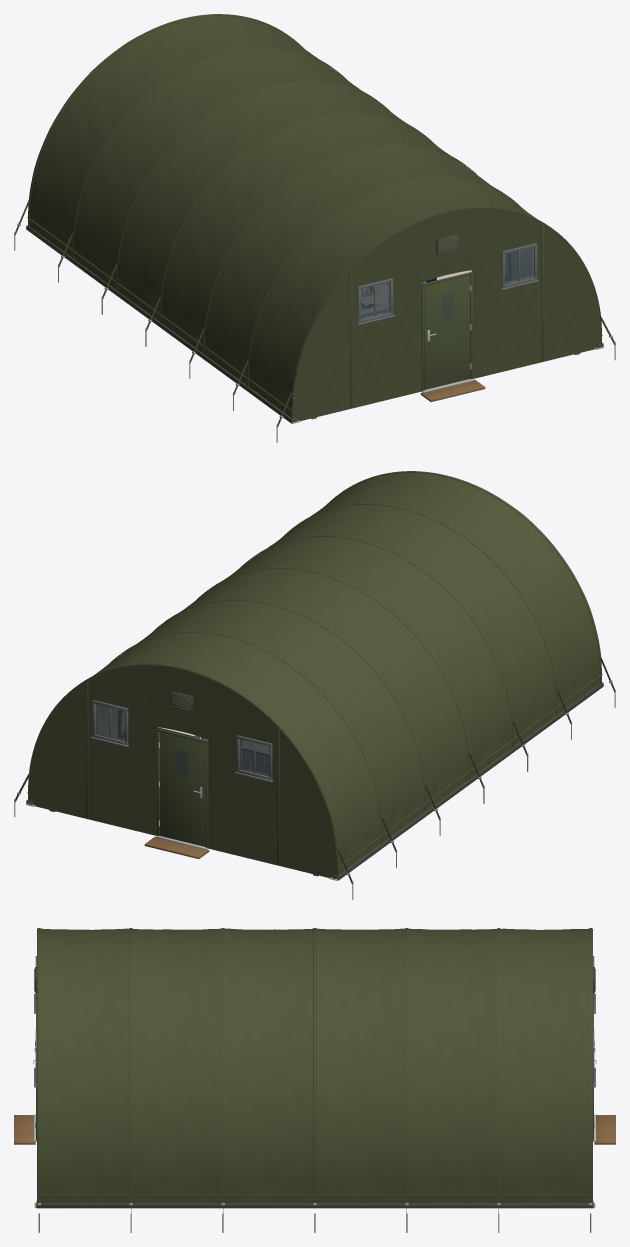
The model's file is mts-deployed-fitted.glb.
3 views of the same model, one above another, from view 1: azimuth 30°, elevation 25°; view 2: azimuth 150°, elevation 25°; view 3: azimuth 270°, elevation 25° (orthographic). The views are drawn at different scales.
Visible parts, largest first — view 1: MTS_shelter, MTS_fitout; view 2: MTS_shelter, MTS_fitout; view 3: MTS_shelter.
Part boxes in pixels (x1,y1,x2,y2): MTS_shelter: (14, 14, 615, 442); MTS_fitout: (361, 270, 471, 316); MTS_shelter: (14, 471, 615, 899); MTS_fitout: (158, 727, 268, 773); MTS_shelter: (14, 928, 615, 1232).
Bounding box in the file's own units: 6.83 × 3.66 × 9.98.
Materials: 39 (7 with a texture image).
